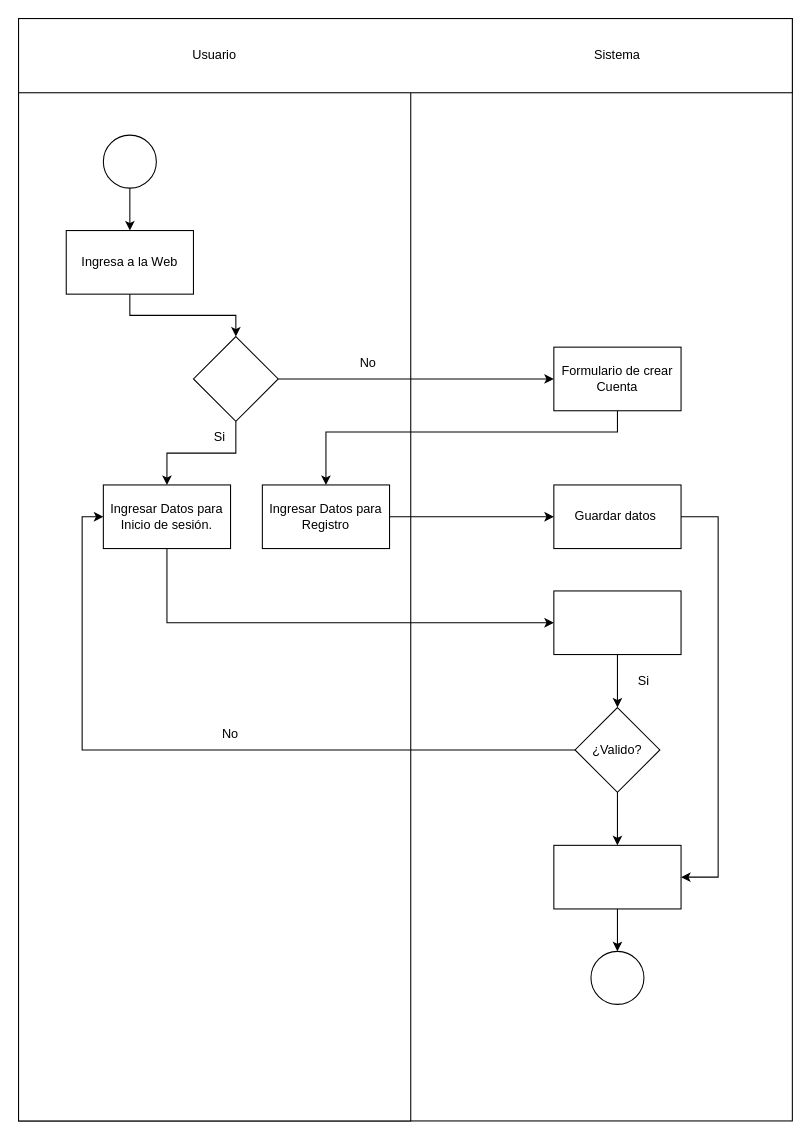
Image size: 811x1139. Some labels were removed from this diagram. The shapes that lost their labels are listed below. From the top down, each one's centre as x and y in pixels, then its label:
At [235,378]: "¿Tiene cuenta?".
At [617,622]: "Validacion".
At [617,876]: "Ingreso Index".
